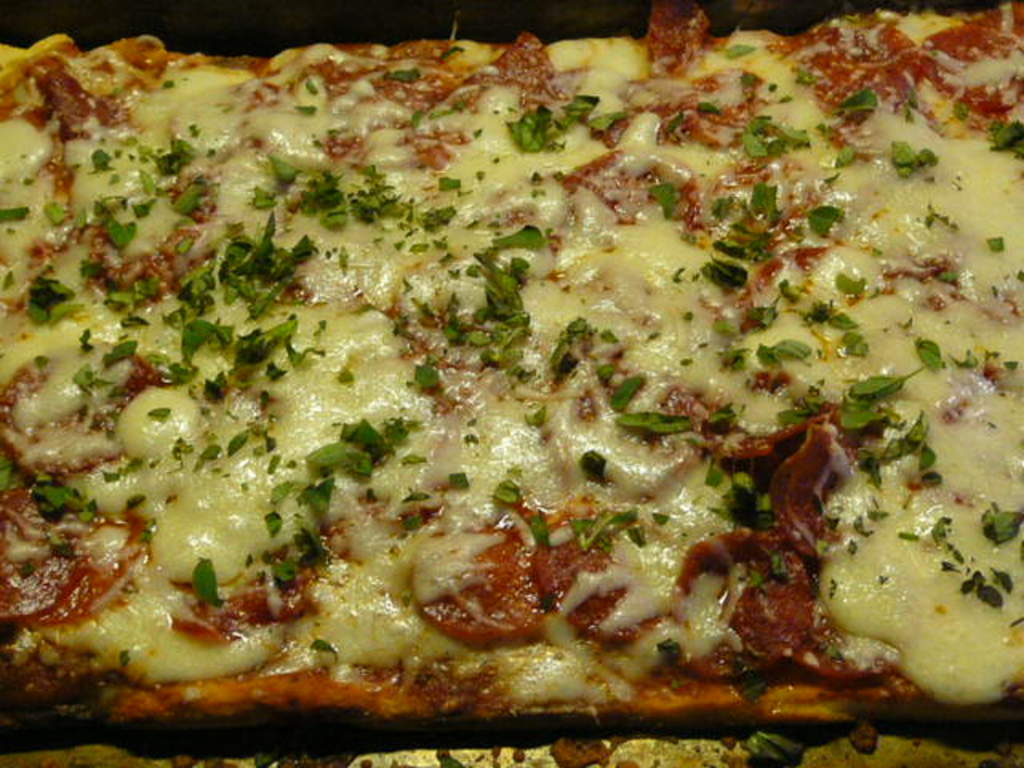Pizza: (0, 6, 1024, 735)
